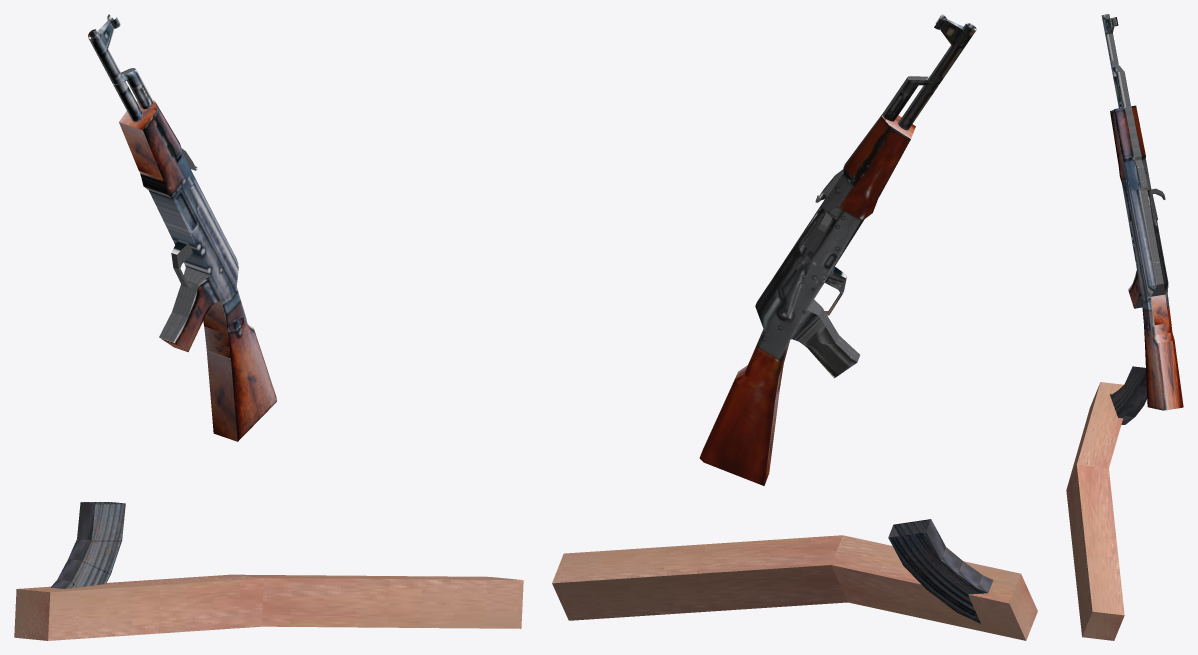
3 renders of one model, left to right at view 1: azimuth 30°, elevation 25°; view 2: azimuth 150°, elevation 25°; view 3: azimuth 270°, elevation 25°, orthographic. The views are drawn at different scales.
Visible parts, largest first — view 1: Cube.001_Cube.006, Cube.007_Cube.005, Cube.002_Cube.003; view 2: Cube.001_Cube.006, Cube.007_Cube.005, Cube.002_Cube.003; view 3: Cube.007_Cube.005, Cube.001_Cube.006, Cube.002_Cube.003.
Part boxes in pixels (x1,y1,x2,y2): Cube.001_Cube.006: (14,574,523,640); Cube.007_Cube.005: (88,14,276,441); Cube.002_Cube.003: (51,502,125,588); Cube.001_Cube.006: (552,535,1037,640); Cube.007_Cube.005: (699,14,976,485); Cube.002_Cube.003: (888,519,993,623); Cube.007_Cube.005: (1101,14,1183,410); Cube.001_Cube.006: (1066,382,1124,640); Cube.002_Cube.003: (1110,366,1147,424).
Size of the model in its own units: 9.43 by 12.95 by 2.78.
